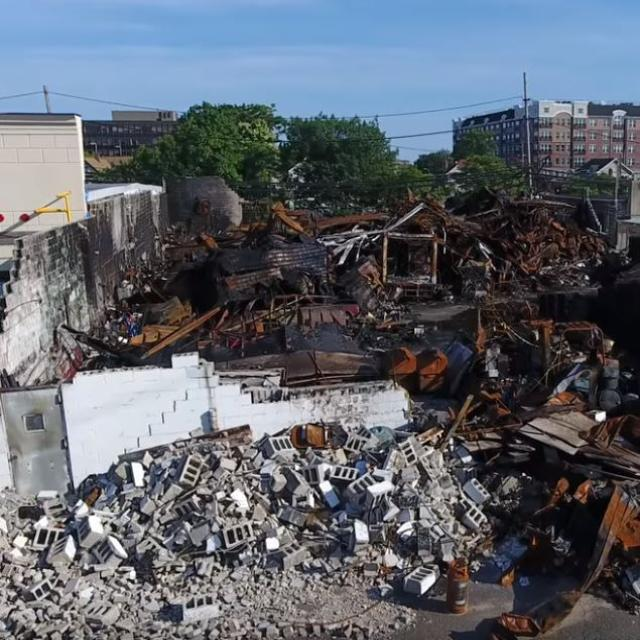collapsed_building: (94, 314, 639, 587), (173, 198, 609, 298)
